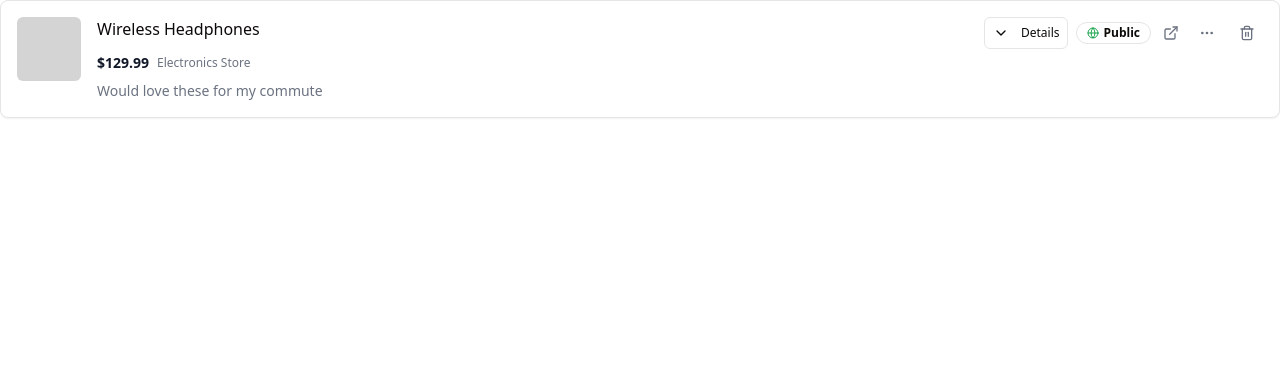
Test: WishlistItem Component › should expand item details inline when details button is clicked
Click the button "Details": (1026, 33) [984,17,1068,49]
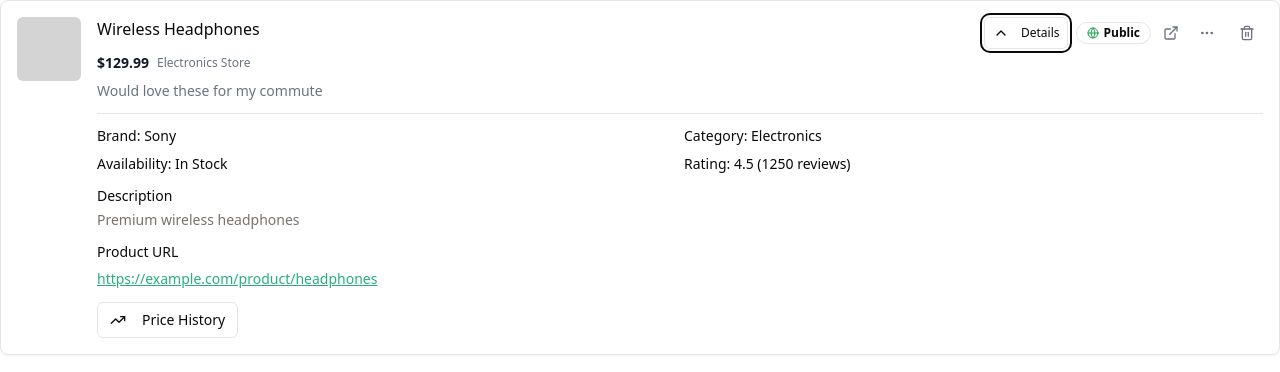
Expected: the element with test id "wishlist-item-expanded-1" is shown, [97,113,1263,338]
Expected: the heading "Product URL" is shown, [97,242,178,261]
Expected: the text "Sony" is shown, [144,126,176,145]
Click the button "Details": (1026, 33) [984,17,1068,49]
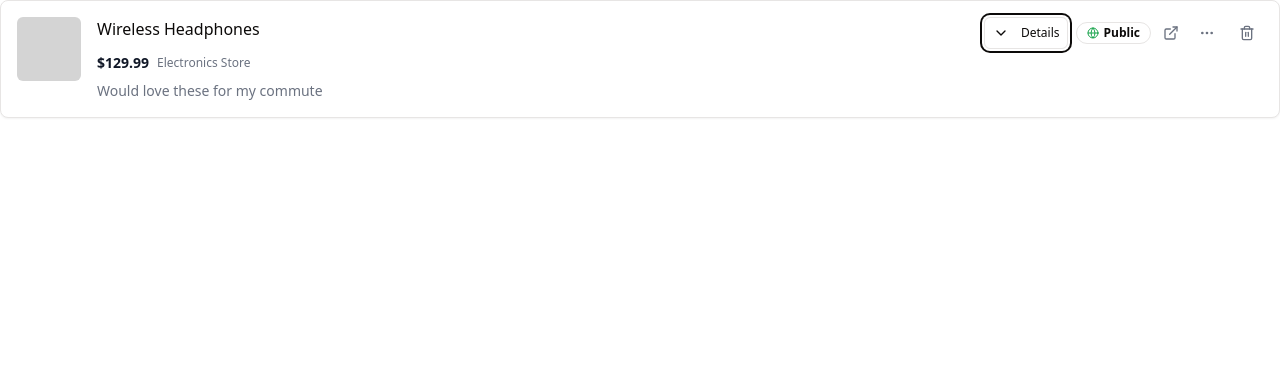
Expected: the element with test id "wishlist-item-expanded-1" is gone
